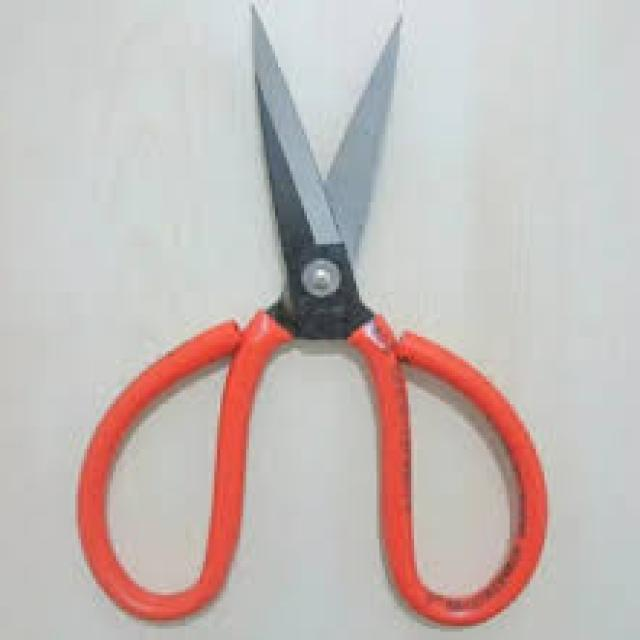Scissors: (68, 0, 570, 640)
